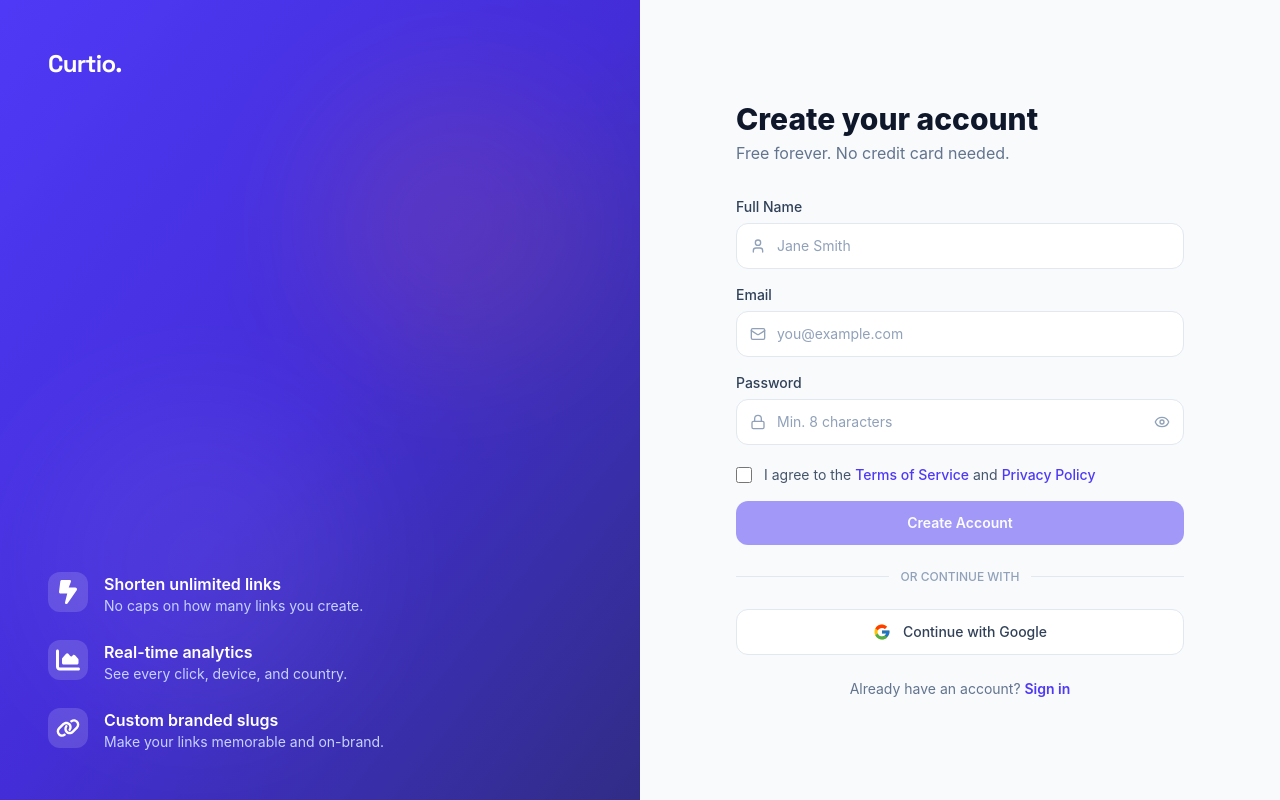
it: Register - sign-up journey › the submit button is locked until the terms are accepted
This screenshot has width=1280, height=800.
Expected: the button "Create Account" is disabled, [736, 501, 1184, 545]
Click the checkbox at (744, 475), box [736, 467, 752, 483]
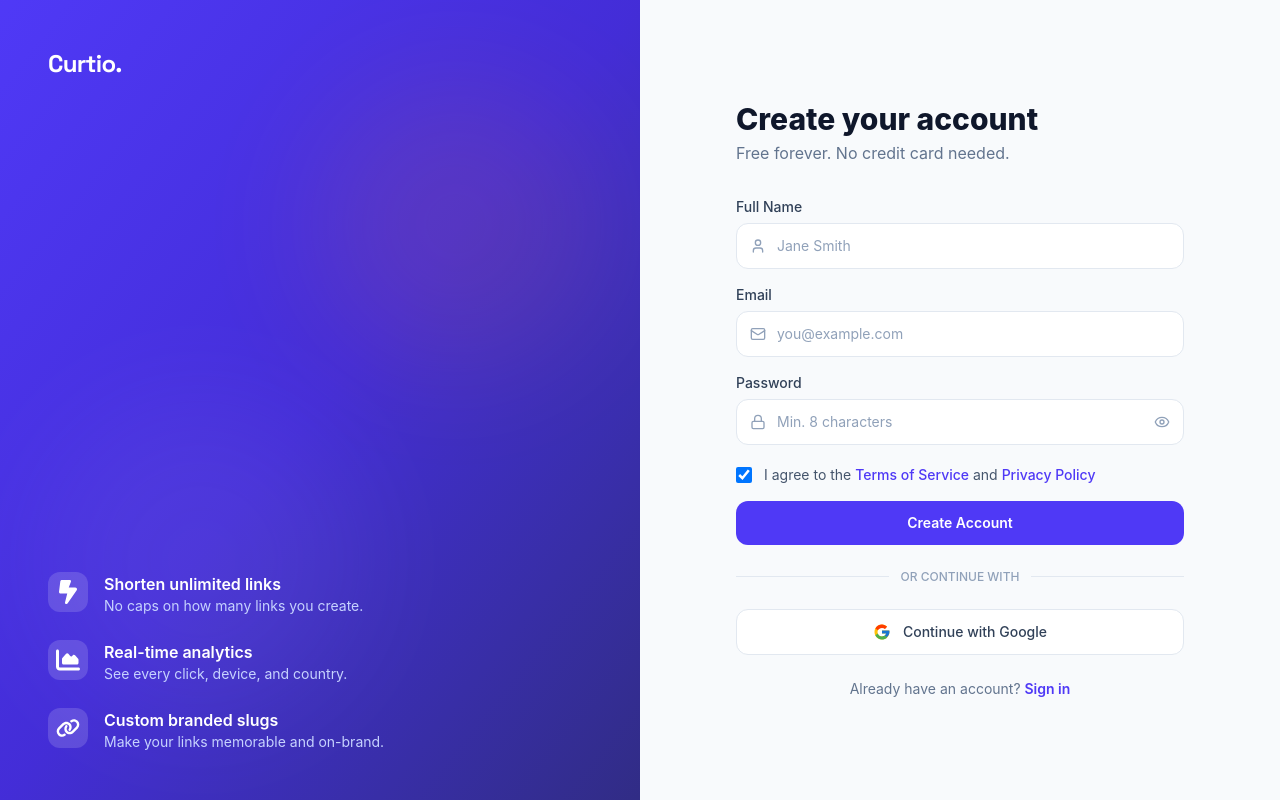
Result: the button "Create Account" is enabled at [736, 501, 1184, 545]
